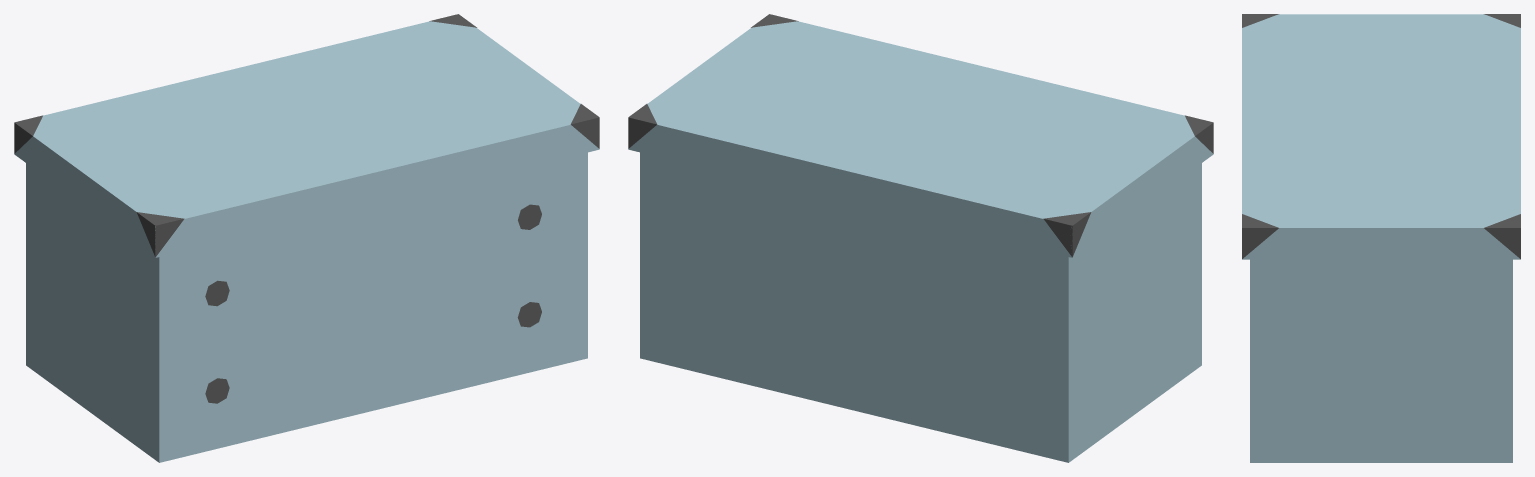
Rendered from storage_box_2.fbx.
3 renders of one model, left to right at view 1: azimuth 30°, elevation 25°; view 2: azimuth 150°, elevation 25°; view 3: azimuth 270°, elevation 25°, orthographic.
Visible parts, largest first — view 1: storage_box_2; view 2: storage_box_2; view 3: storage_box_2.
Boxes of the visible parts, x1=… form: storage_box_2: x1=14, y1=14, x2=599, y2=462; storage_box_2: x1=628, y1=14, x2=1213, y2=462; storage_box_2: x1=1242, y1=14, x2=1520, y2=462.
Bounding box in the file's own units: 56.61 × 31.17 × 29.45.
